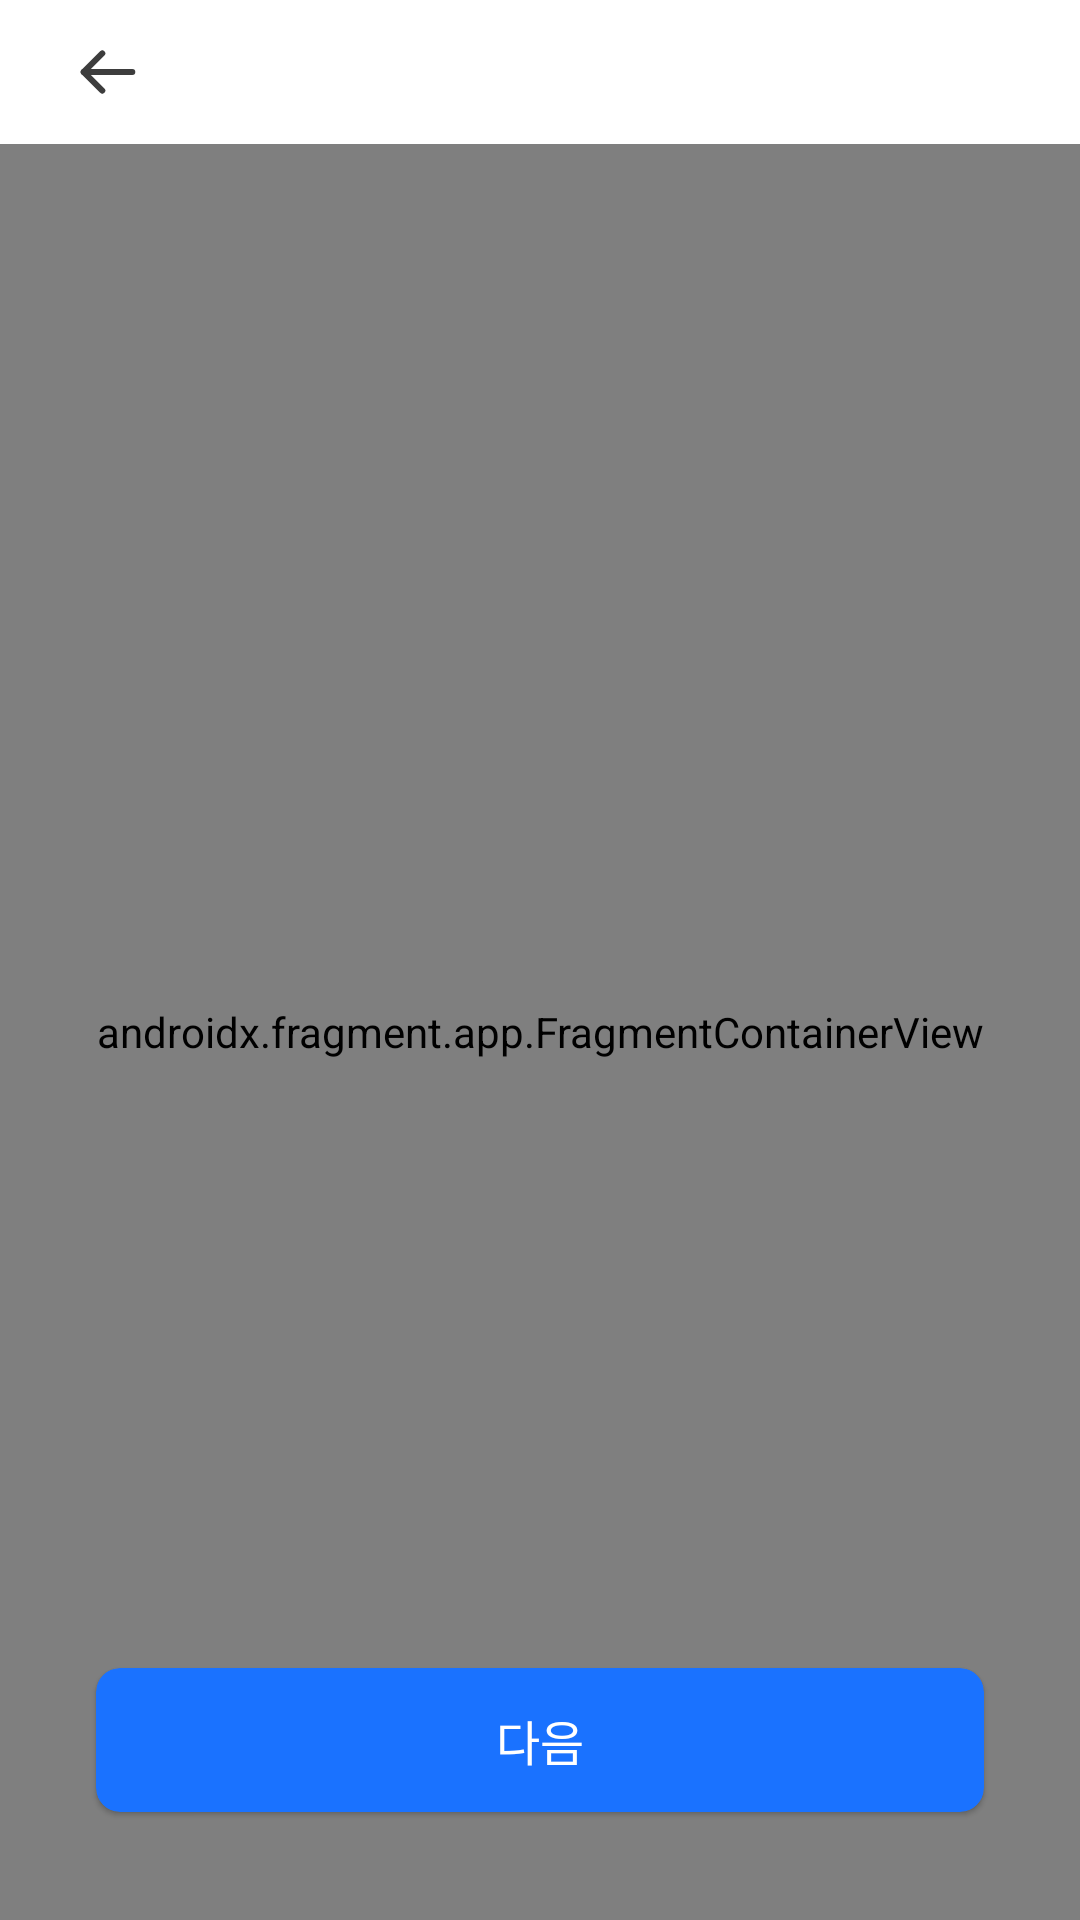

Screen size 1080x1920. Icon name, then its center in pixels as point (x, y):
back: point (108, 72)
